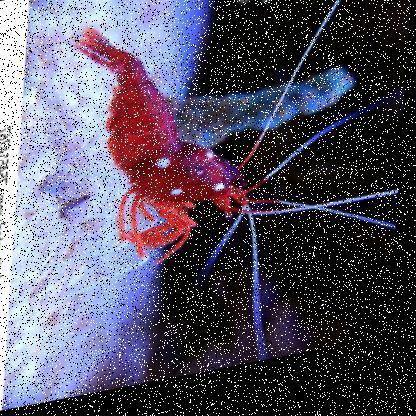shrimp: (63, 1, 274, 285)
